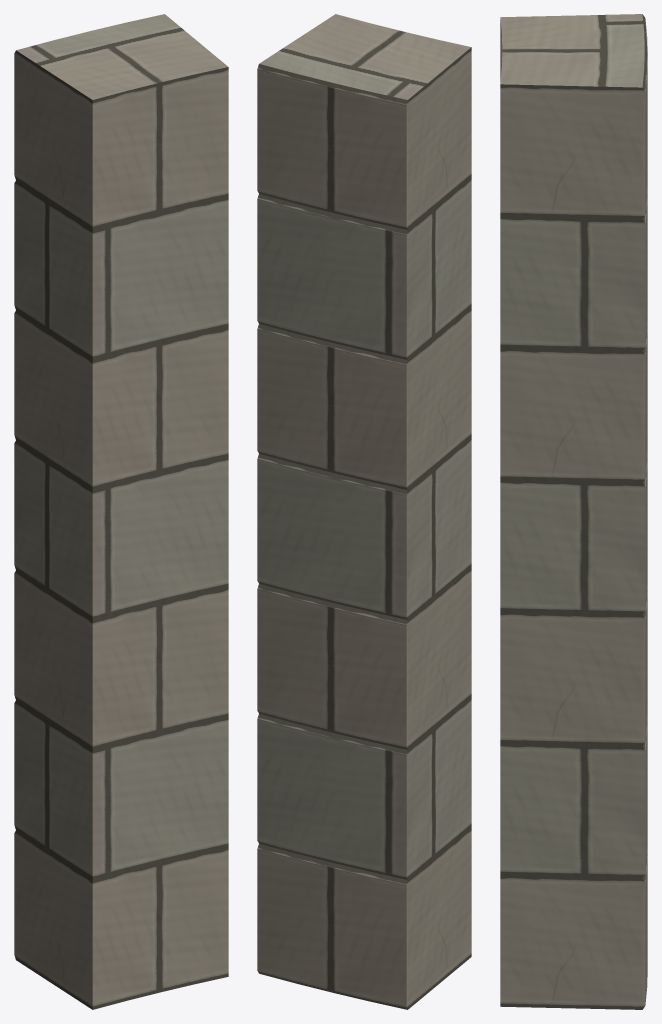
Rendered from Furn_Tower3_R50_End.fbx.
3 renders of one model, left to right at view 1: azimuth 30°, elevation 25°; view 2: azimuth 150°, elevation 25°; view 3: azimuth 270°, elevation 25°, orthographic.
Visible parts, largest first — view 1: Furn_Tower3_R50_End; view 2: Furn_Tower3_R50_End; view 3: Furn_Tower3_R50_End.
Boxes of the visible parts, x1,y1,x2,y2 form: Furn_Tower3_R50_End: (14, 14, 228, 1009); Furn_Tower3_R50_End: (257, 14, 471, 1009); Furn_Tower3_R50_End: (500, 14, 647, 1009).
Size of the model in its own units: 0.6 by 3.5 by 0.5073.
